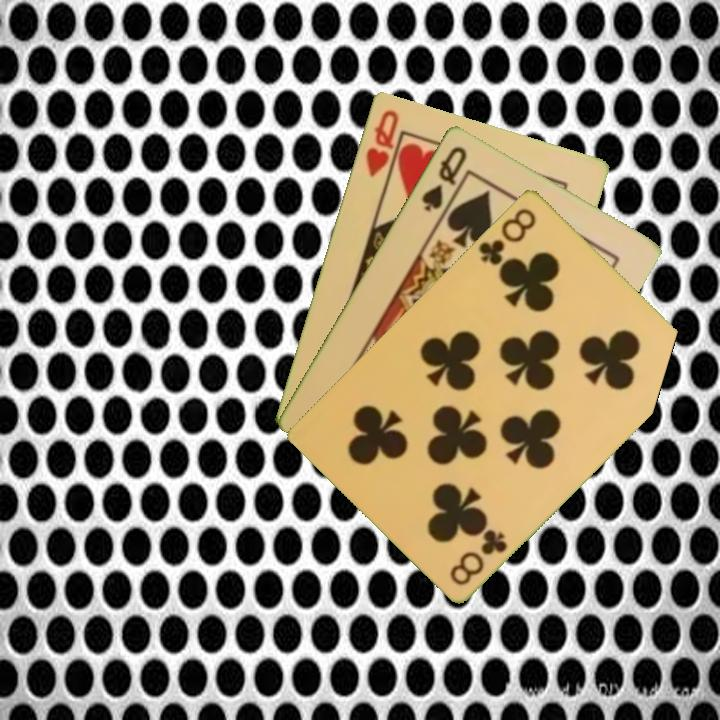8c: (474, 203, 539, 268), (446, 525, 511, 588)
Qh: (362, 106, 401, 180)
Qs: (417, 142, 470, 214)
